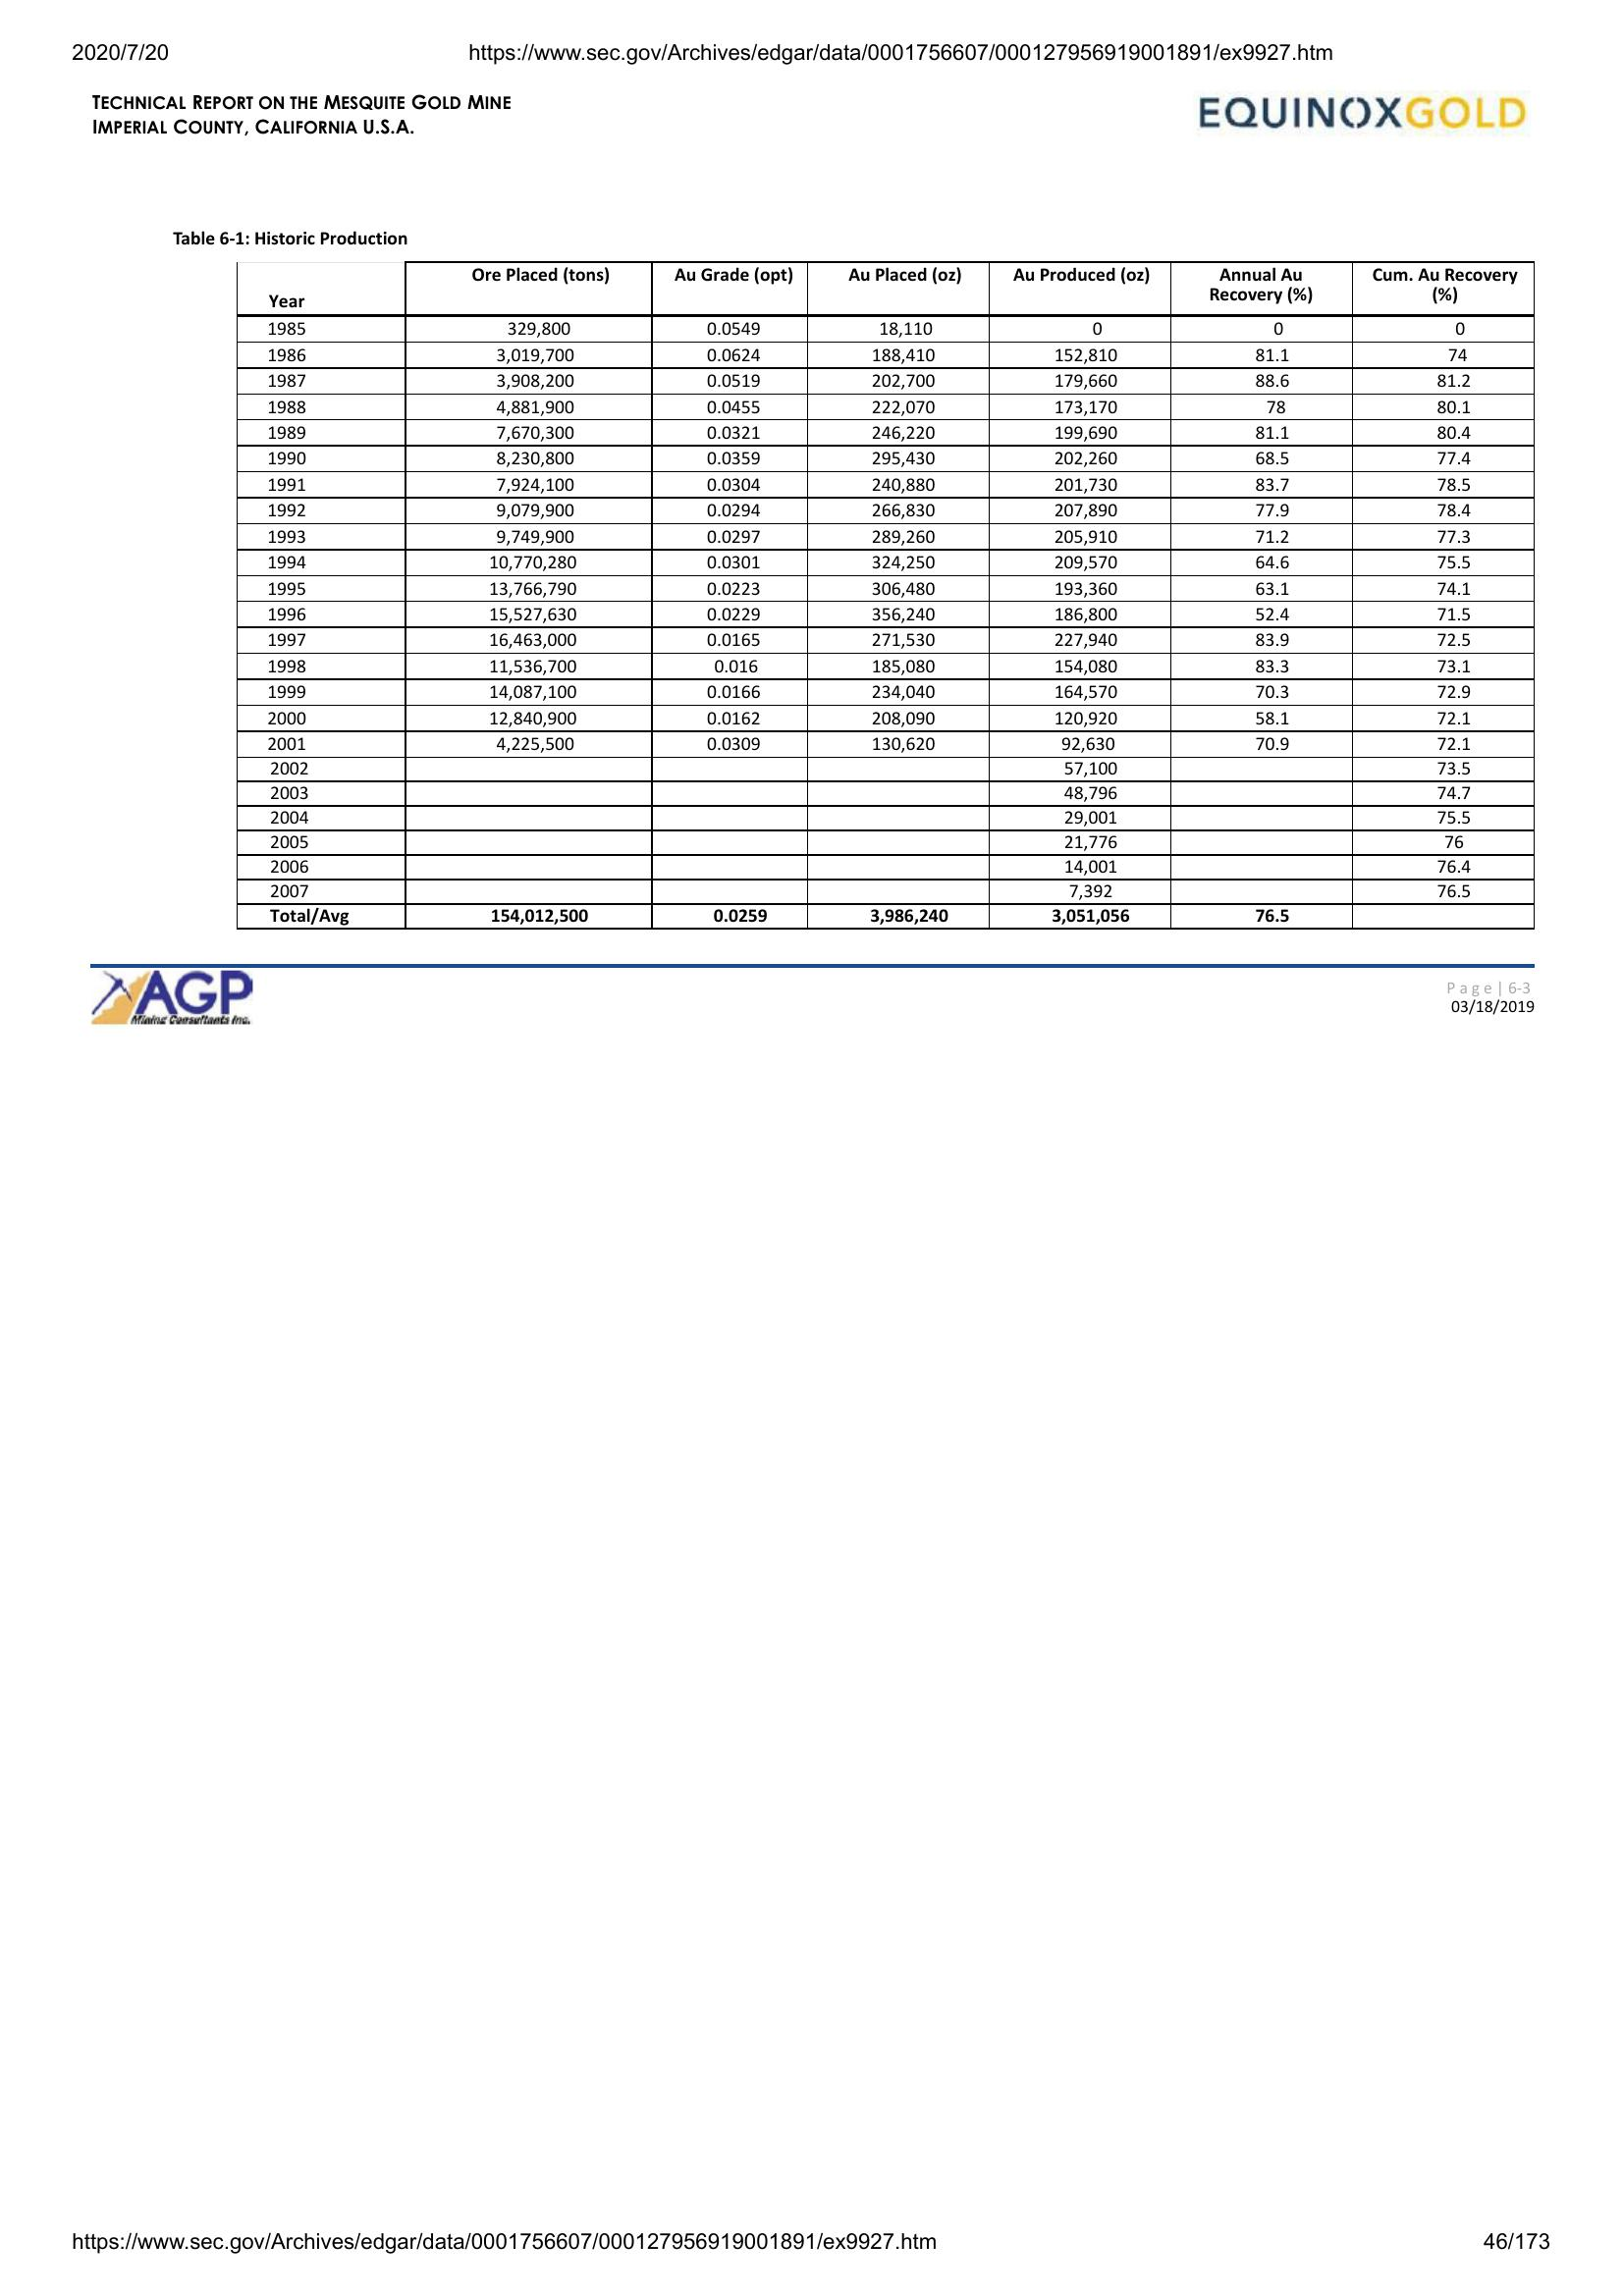table: (228, 251, 1540, 936)
